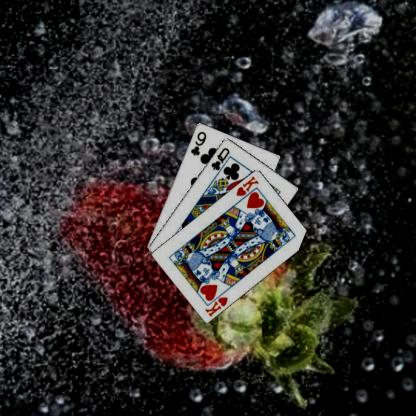9C: (188, 129, 207, 157)
KH: (233, 174, 260, 197), (203, 294, 229, 317)
QC: (209, 145, 231, 172)
